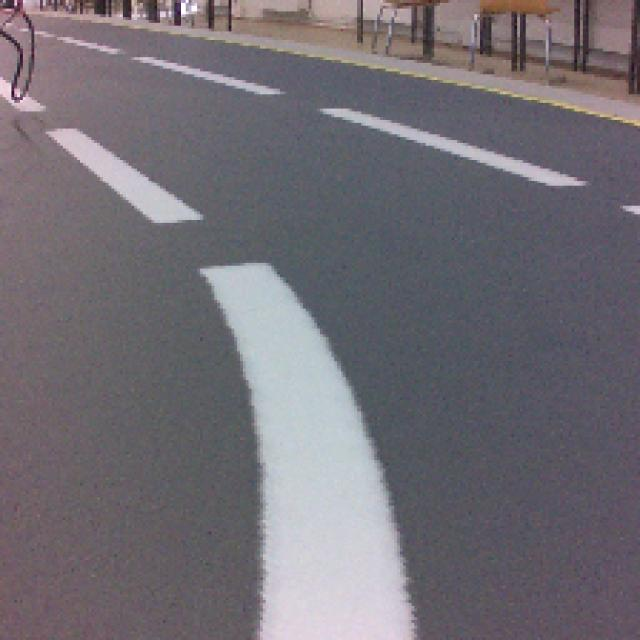Pedestrian crosswalk: (202, 259, 413, 640)
